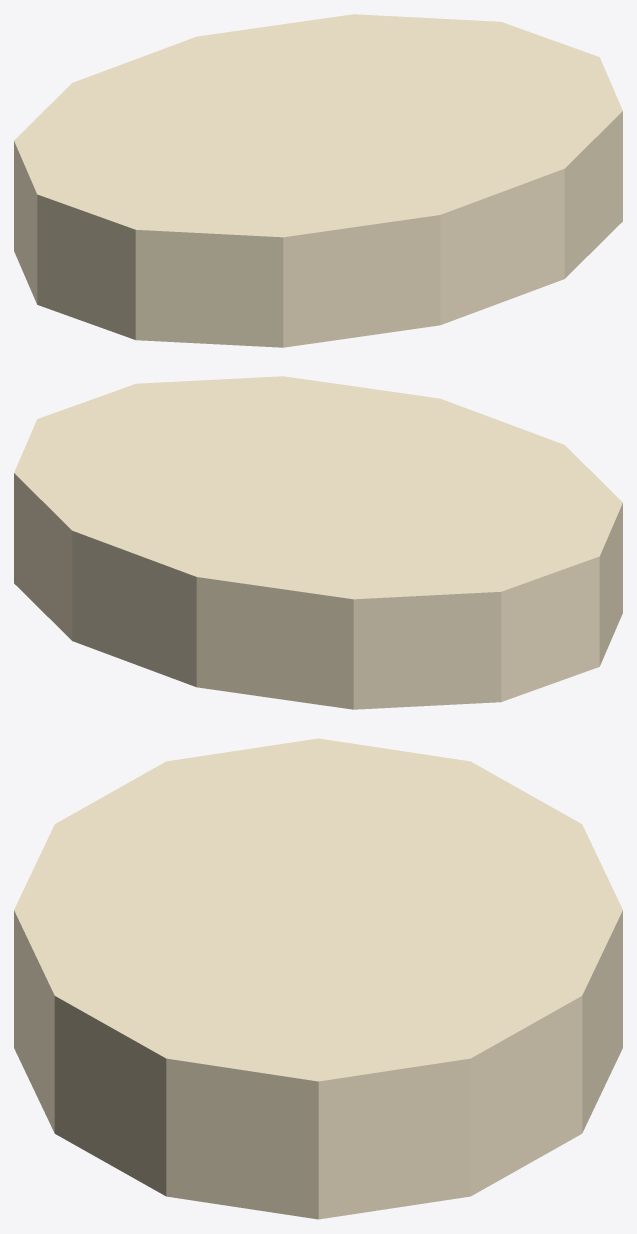
The model's file is arena_navMesh_v1.fbx.
3 renders of one model, top to bottom at view 1: azimuth 30°, elevation 25°; view 2: azimuth 150°, elevation 25°; view 3: azimuth 270°, elevation 25°, orthographic. The views are drawn at different scales.
Parts seen in each view (by area): view 1: pCylinder1; view 2: pCylinder1; view 3: pCylinder1.
Part boxes in pixels (bbox=[...]): pCylinder1: bbox=[14, 14, 622, 347]; pCylinder1: bbox=[14, 376, 622, 709]; pCylinder1: bbox=[14, 738, 622, 1219].
Bounding box in the file's own units: 5332 × 1000 × 4000.
